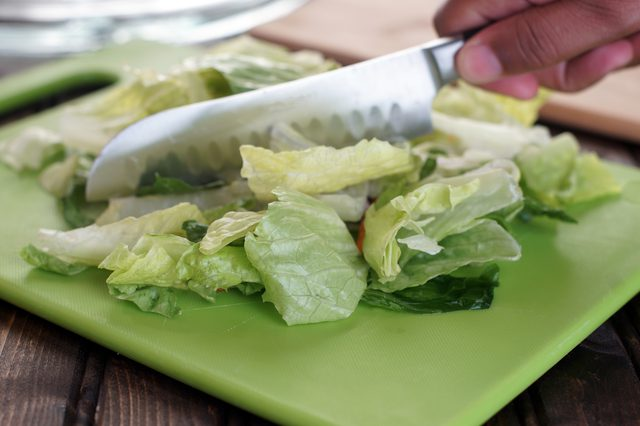chopped lettuce: (56, 142, 515, 308)
